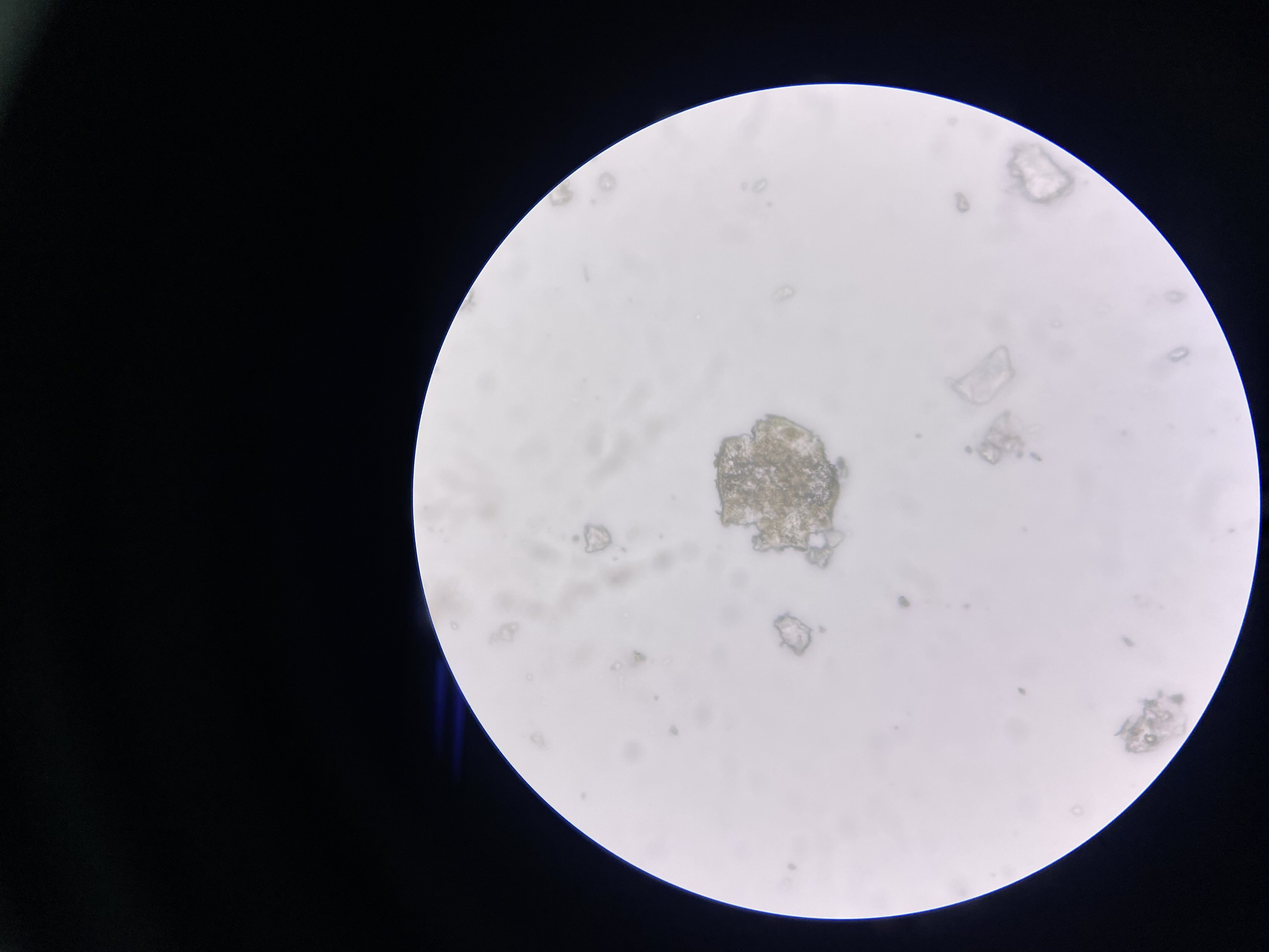microplastic: (712, 411, 849, 576), (964, 408, 1049, 470), (1002, 139, 1075, 209), (1120, 685, 1191, 752), (950, 345, 1016, 405), (770, 609, 812, 654), (583, 521, 614, 554), (489, 621, 524, 647), (773, 276, 797, 305), (525, 724, 547, 753), (1164, 344, 1193, 365), (549, 190, 578, 207), (955, 190, 975, 213), (1164, 283, 1186, 303), (752, 177, 776, 195), (628, 647, 647, 669), (891, 594, 914, 610), (601, 177, 615, 189)
